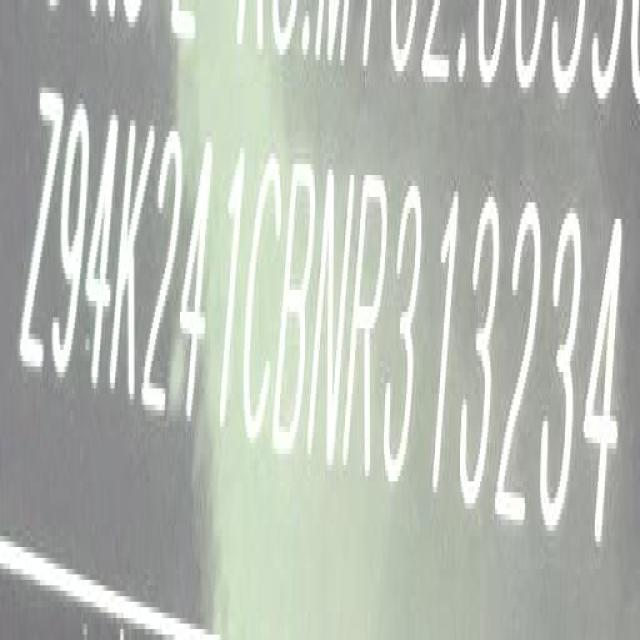1: (421, 191, 464, 508), (208, 143, 246, 444)
2: (494, 194, 552, 534), (137, 124, 184, 424)
3: (535, 211, 590, 543), (452, 194, 504, 520), (382, 181, 430, 494)
4: (577, 210, 634, 558), (173, 139, 221, 432), (82, 105, 125, 398)
9: (48, 98, 94, 393)
B: (272, 158, 324, 464)
C: (238, 152, 286, 456)
K: (107, 115, 156, 409)
N: (306, 164, 357, 470)
R: (340, 172, 393, 483)
Z: (15, 89, 64, 384)
